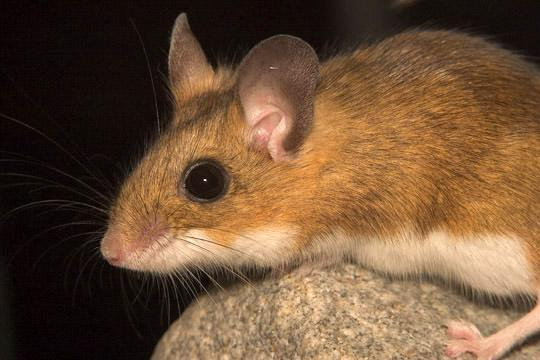rat: (99, 13, 540, 360)
